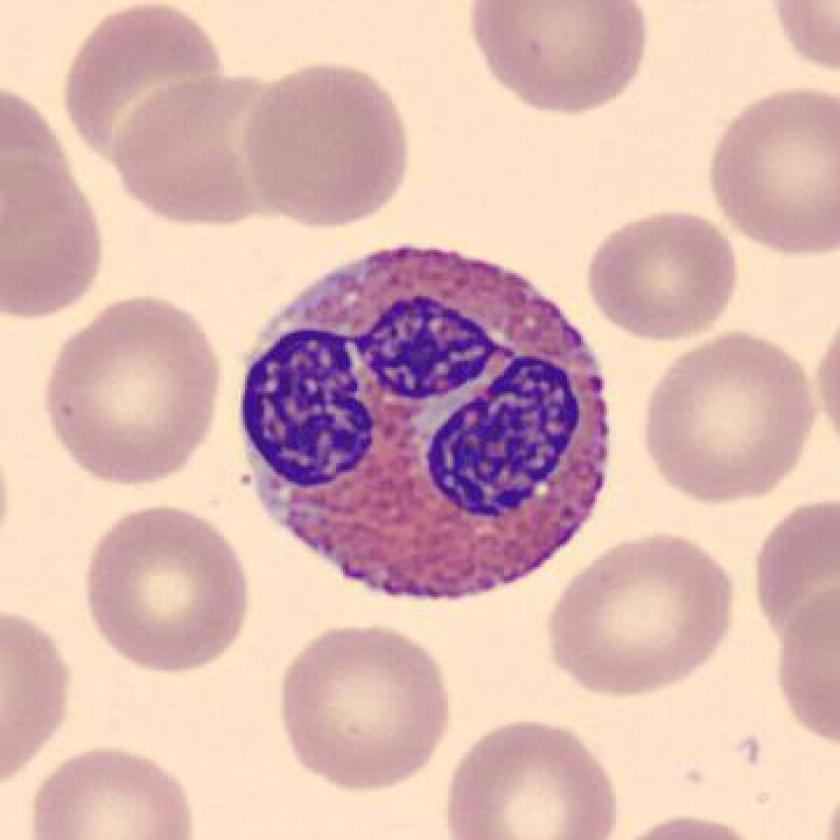eosinophil: (230, 235, 636, 614)
